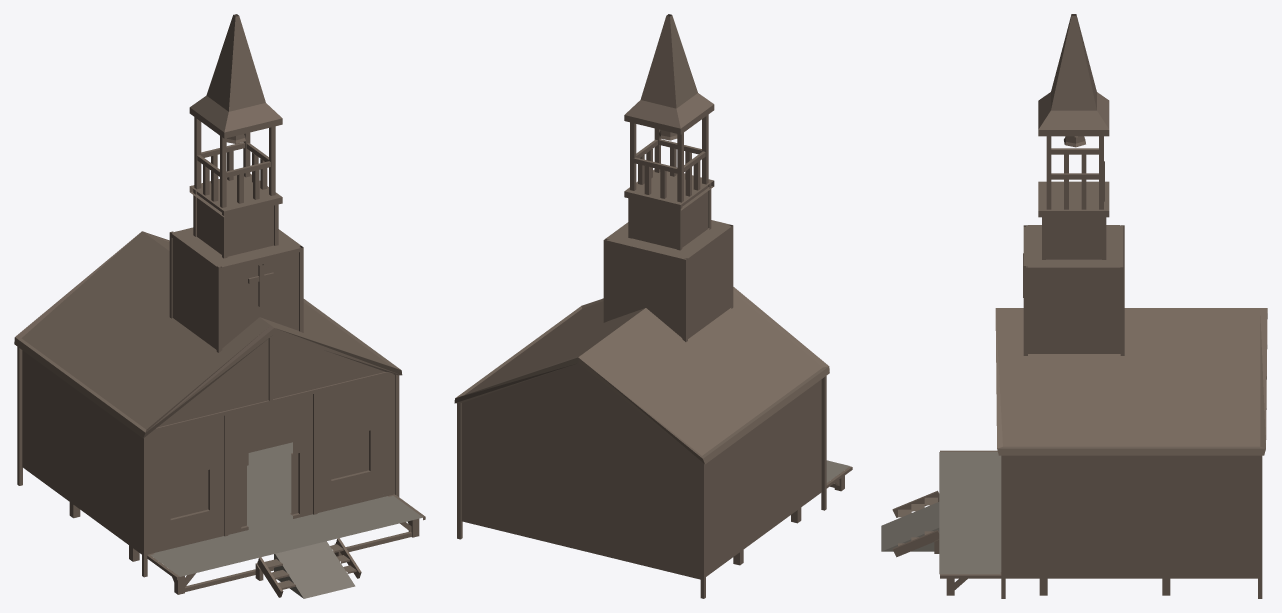
Rendered from church.access-v2.lod2.glb.
3 views of the same model, side by side, from view 1: azimuth 30°, elevation 25°; view 2: azimuth 150°, elevation 25°; view 3: azimuth 270°, elevation 25° (orthographic). The views are drawn at different scales.
Visible parts, largest first — view 1: Object079_Material #30_0; view 2: Object079_Material #30_0; view 3: Object079_Material #30_0.
Part boxes in pixels (x1,y1,x2,y2): Object079_Material #30_0: (14,14,425,598); Object079_Material #30_0: (454,14,852,598); Object079_Material #30_0: (881,14,1267,598).
Size of the model in its own units: 8.52 by 16 by 10.69.
